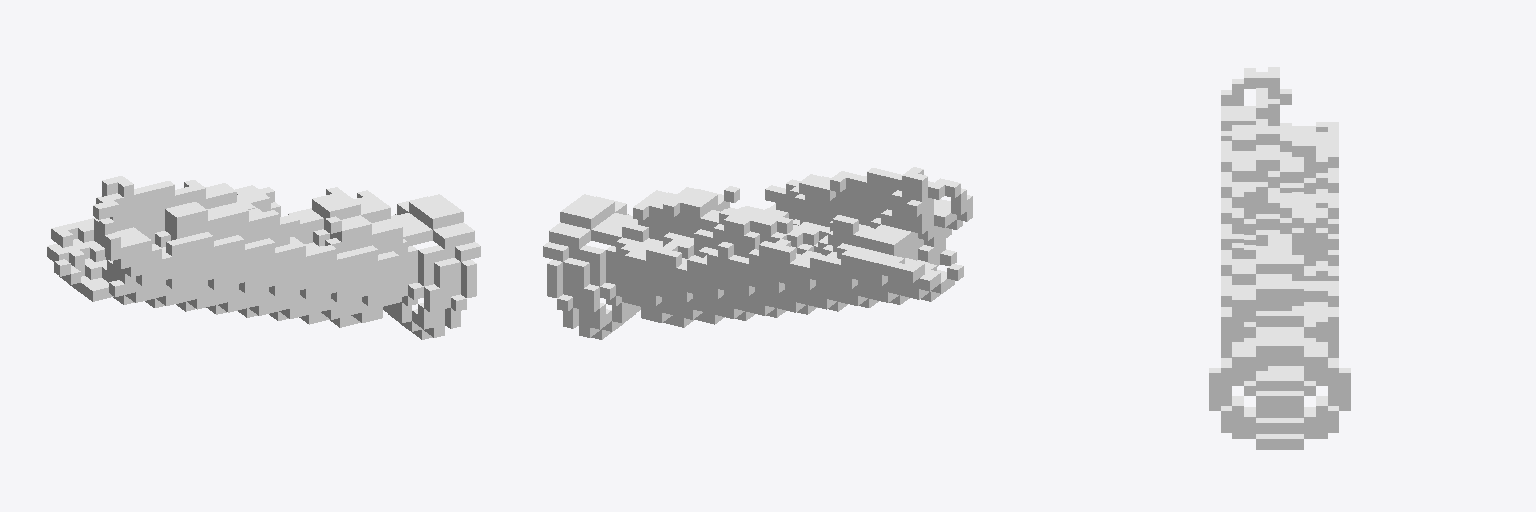
Rendered from spaceship_destroy_03.obj.
The picture shows the model from 3 angles: view 1: azimuth 30°, elevation 25°; view 2: azimuth 150°, elevation 25°; view 3: azimuth 270°, elevation 25°; orthographic projection.
Parts seen in each view (by area): view 1: object 1; view 2: object 1; view 3: object 1.
Boxes of the visible parts, x1,y1,x2,y2 form: object 1: [47, 176, 480, 339]; object 1: [543, 167, 972, 339]; object 1: [1209, 67, 1350, 449].
Bounding box in the file's own units: 3.8 × 2.1 × 1.2.